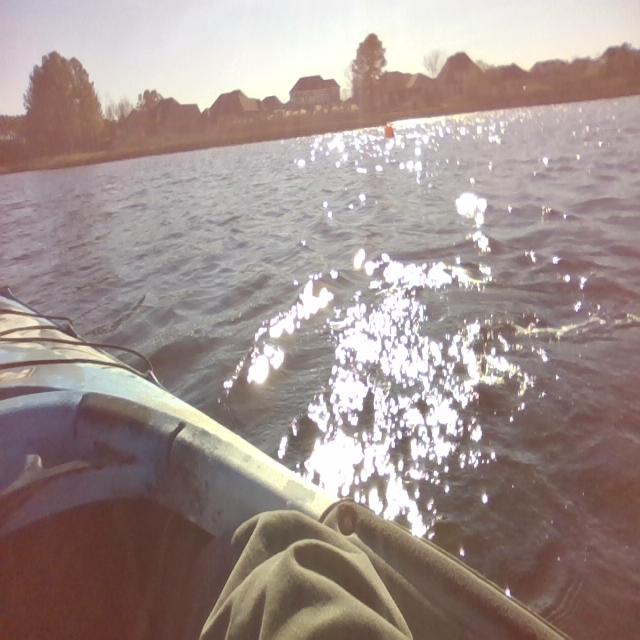Buoy: (378, 119, 401, 145)
